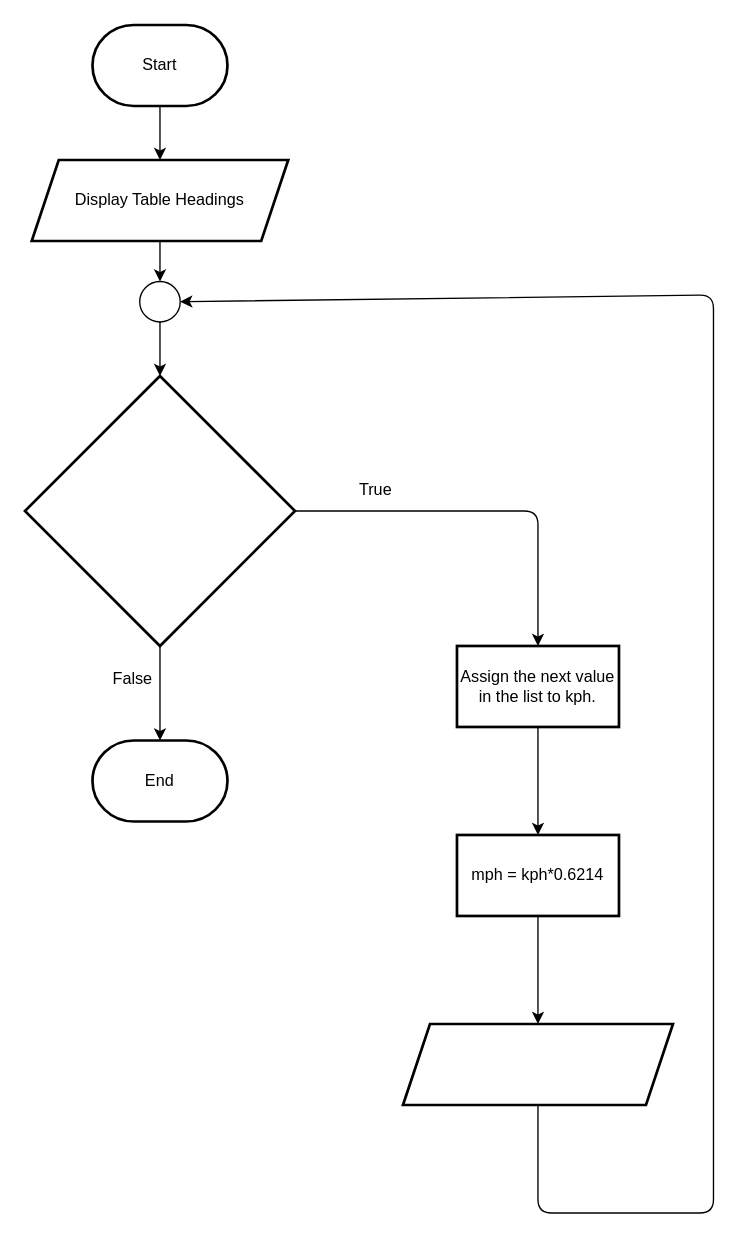
Image size: 748x1247. Some labels were removed from this diagram. Here are the shapes that lost their labels. From the top down, the box of each, then its label:
(23, 374, 296, 647): number in range (60,140,10)
(401, 1022, 674, 1106): Display the kph variable and the mph variable.
